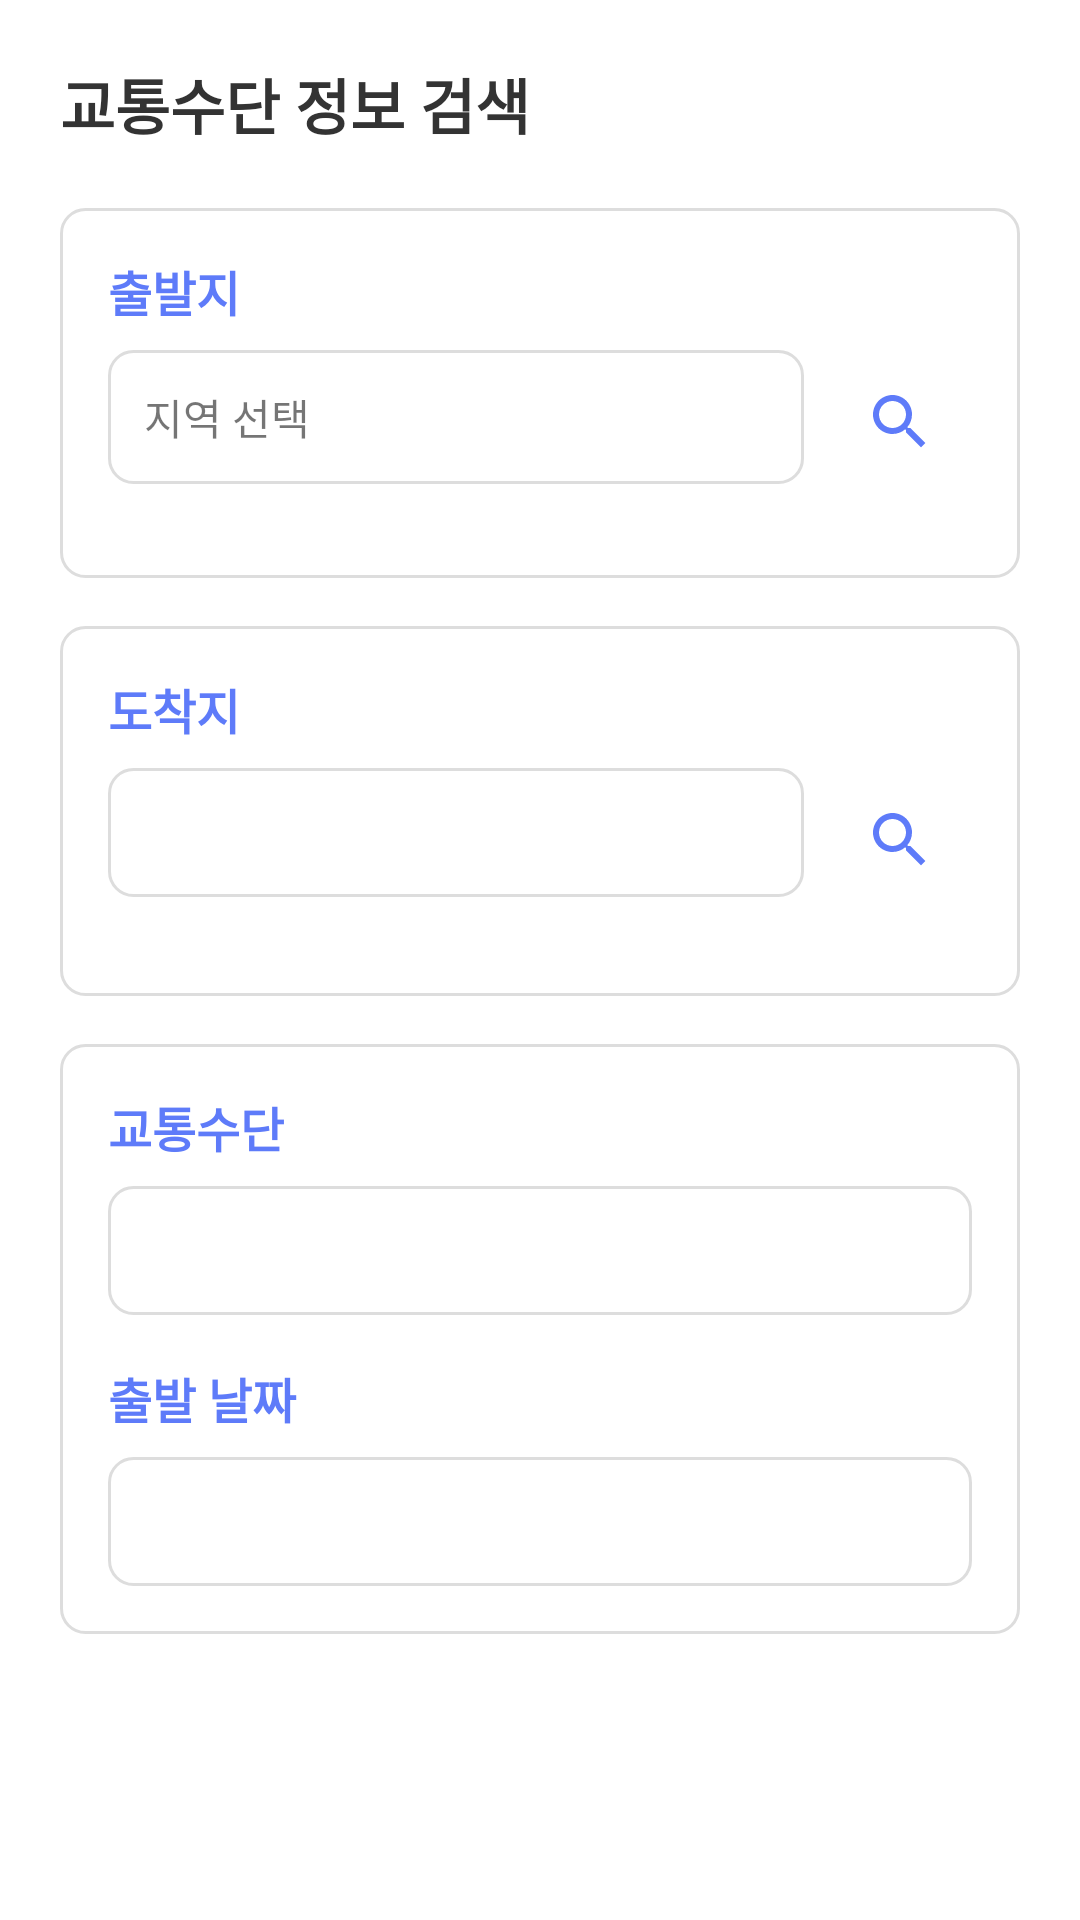

Icons on this 1080w x 1920h Android screen, each with its box as (x1=x1, y1=y1, x2=x2, y2=y2):
역 검색: (x1=873, y1=395, x2=925, y2=447)
